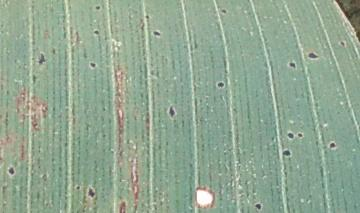tarspot: (36, 52, 49, 66), (86, 185, 96, 201), (117, 199, 126, 213), (287, 60, 297, 71), (281, 148, 292, 158), (253, 202, 264, 212), (307, 51, 319, 60), (7, 165, 16, 177), (168, 104, 175, 119), (30, 72, 38, 85), (328, 140, 337, 151), (286, 131, 295, 140), (91, 28, 100, 37), (216, 80, 224, 90), (151, 30, 161, 38), (296, 131, 304, 140), (88, 61, 97, 69), (74, 184, 83, 192), (50, 46, 57, 56), (62, 140, 70, 148), (219, 8, 228, 15), (339, 39, 346, 48), (93, 4, 101, 11), (100, 105, 107, 112), (101, 132, 107, 140), (144, 13, 150, 20)
